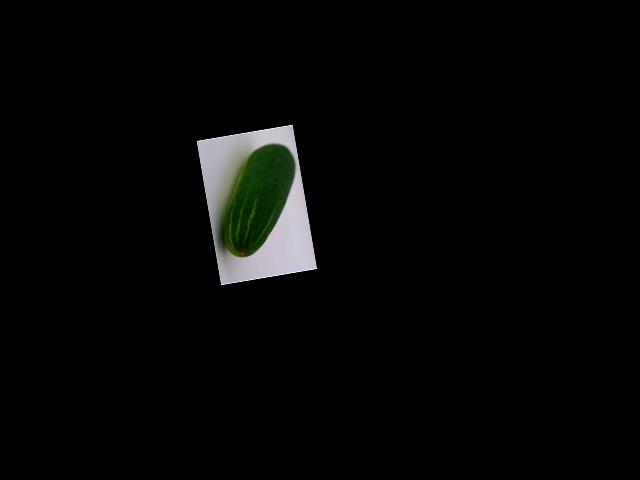cucumber: (209, 140, 308, 259)
